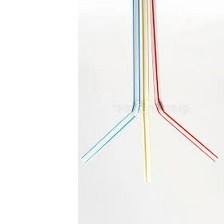drinking_straw: (150, 0, 222, 165), (77, 0, 141, 168), (138, 0, 154, 187)
